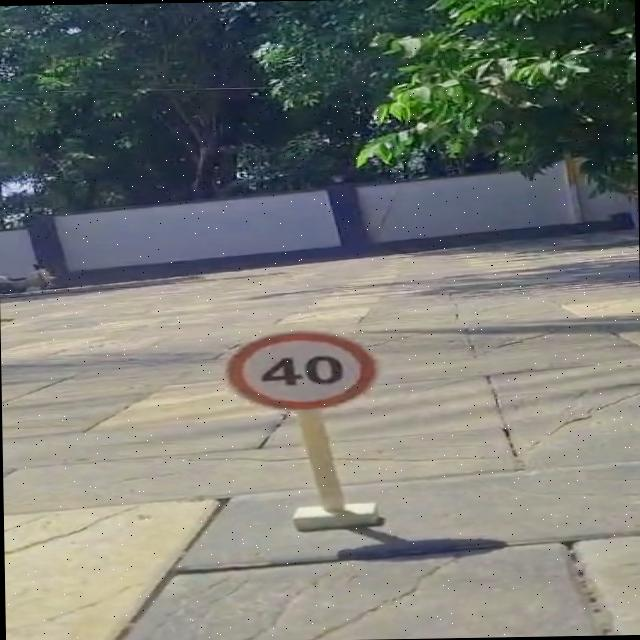Speed40: (216, 325, 386, 415)
